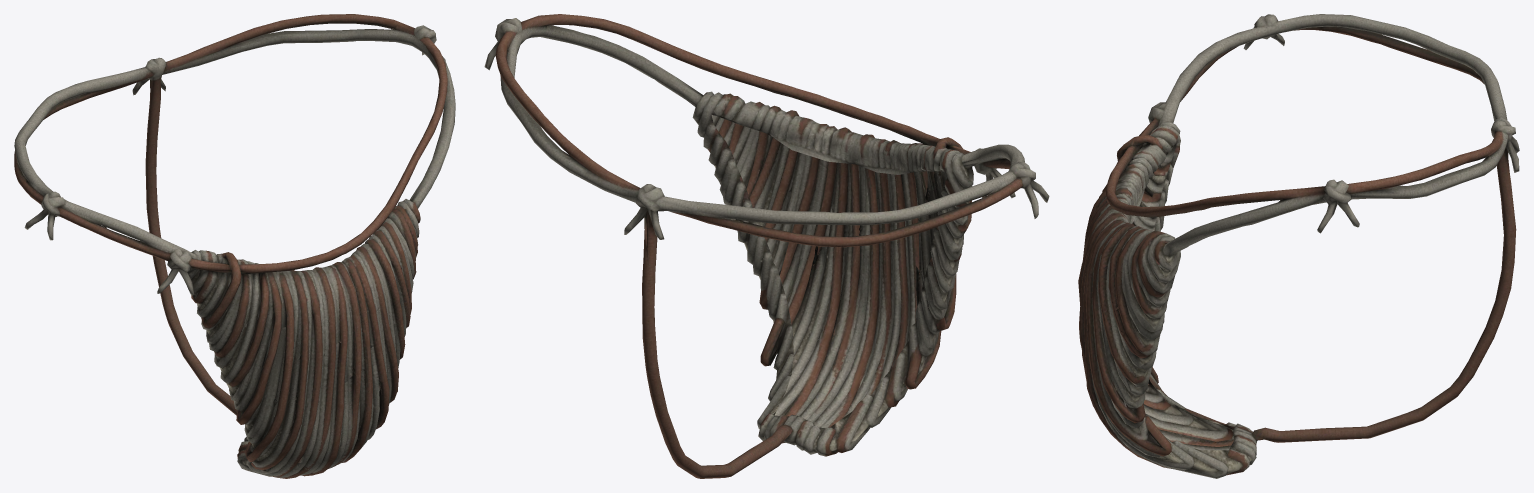
Rendered from SM_TaparrabosFibra.glb.
3 renders of one model, left to right at view 1: azimuth 30°, elevation 25°; view 2: azimuth 150°, elevation 25°; view 3: azimuth 270°, elevation 25°, orthographic. The views are drawn at different scales.
Visible parts, largest first — view 1: Calzon_Low.001; view 2: Calzon_Low.001; view 3: Calzon_Low.001.
Boxes of the visible parts, x1=… form: Calzon_Low.001: x1=14, y1=14, x2=455, y2=478; Calzon_Low.001: x1=484, y1=14, x2=1049, y2=478; Calzon_Low.001: x1=1078, y1=14, x2=1519, y2=478.
Bounding box in the file's own units: 0.3631 × 0.2772 × 0.2854.
1 material, 1 textured.
